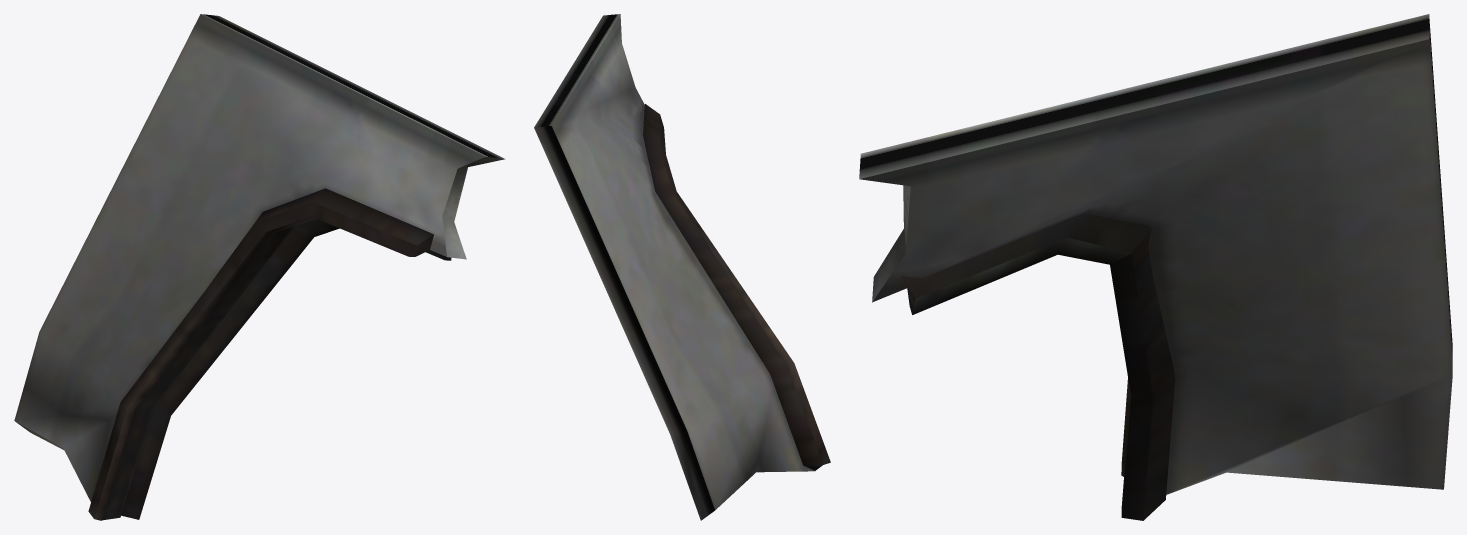
Rendered from subwaycarexterior01_enddoor01_damaged05b.glb.
The picture shows the model from 3 angles, left to right: view 1: azimuth 30°, elevation 25°; view 2: azimuth 150°, elevation 25°; view 3: azimuth 270°, elevation 25°; orthographic projection. The views are drawn at different scales.
Parts seen in each view (by area): view 1: subwaycarexterior01_enddoor01_damaged05b; view 2: subwaycarexterior01_enddoor01_damaged05b; view 3: subwaycarexterior01_enddoor01_damaged05b.
Part boxes in pixels (x1,y1,x2,y2): subwaycarexterior01_enddoor01_damaged05b: (14, 14, 505, 520); subwaycarexterior01_enddoor01_damaged05b: (534, 14, 830, 520); subwaycarexterior01_enddoor01_damaged05b: (859, 14, 1452, 520).
Bounding box in the file's own units: 0.3794 × 0.4397 × 0.3758.
1 material, 1 textured.
